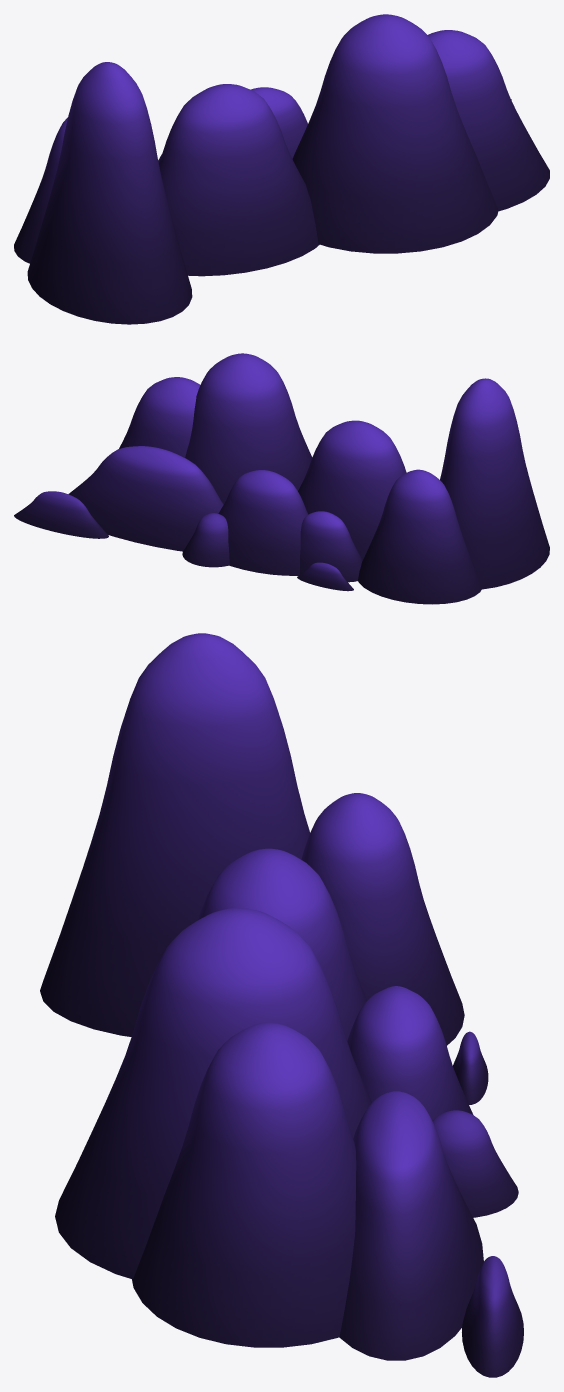
File: Background Sand Dunes.fbx
3 views of the same model, one above another, from view 1: azimuth 30°, elevation 25°; view 2: azimuth 150°, elevation 25°; view 3: azimuth 270°, elevation 25° (orthographic). The views are drawn at different scales.
Visible parts, largest first — view 1: pSphere12; view 2: pSphere12; view 3: pSphere12.
Boxes of the visible parts, x1,y1,x2,y2 form: pSphere12: (14,14,549,324); pSphere12: (14,353,549,604); pSphere12: (40,633,523,1377).
Size of the model in its own units: 2736 by 1040 by 1279.
